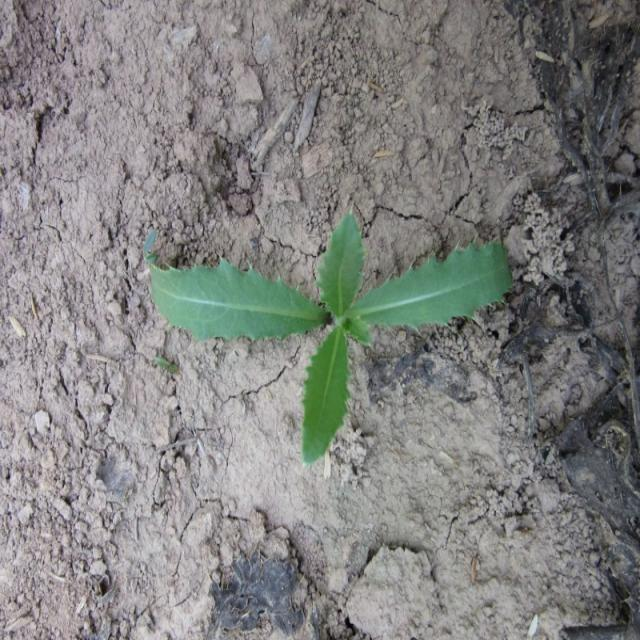cs: (142, 212, 517, 466)
